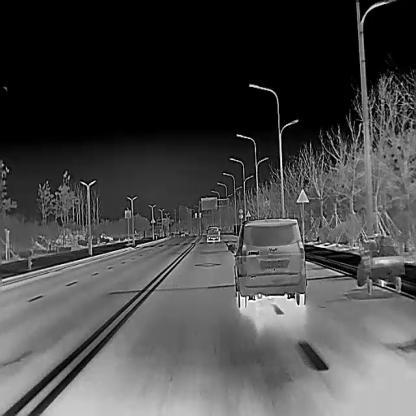car: (227, 215, 308, 308), (205, 224, 220, 242), (178, 229, 184, 237), (170, 232, 174, 237)
